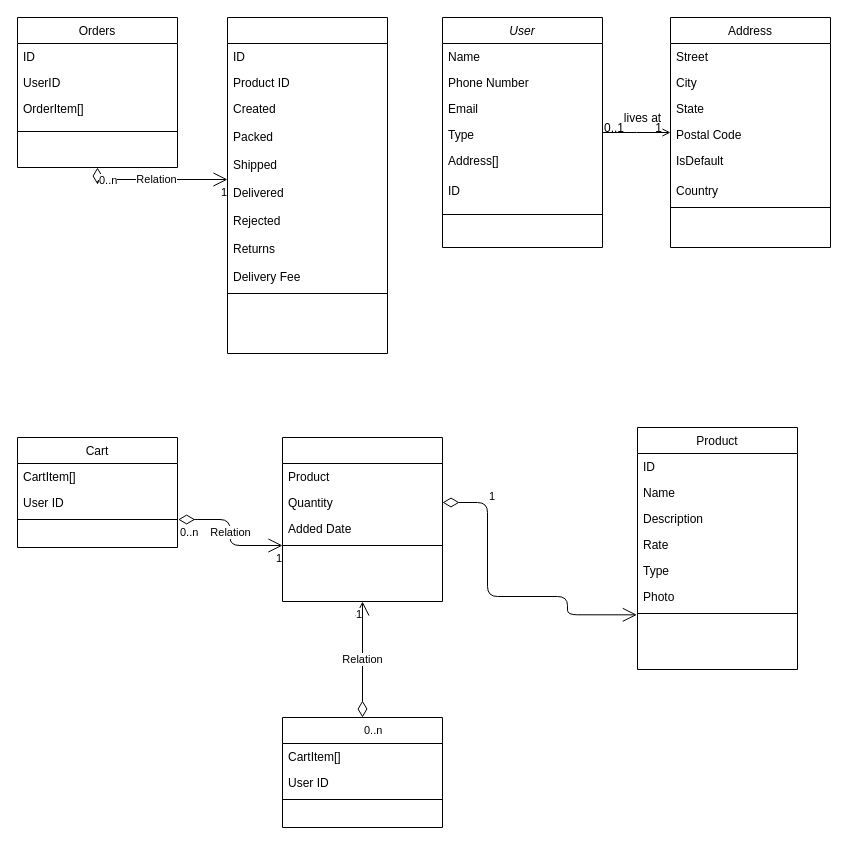
This 848x845 diagram has some shape labels left out. Here are the shapes that lost their labels. From the top down, the box of each, then its label:
(226, 16, 388, 354): OrderItem
(282, 436, 442, 602): CartItem
(282, 716, 442, 828): WishList
